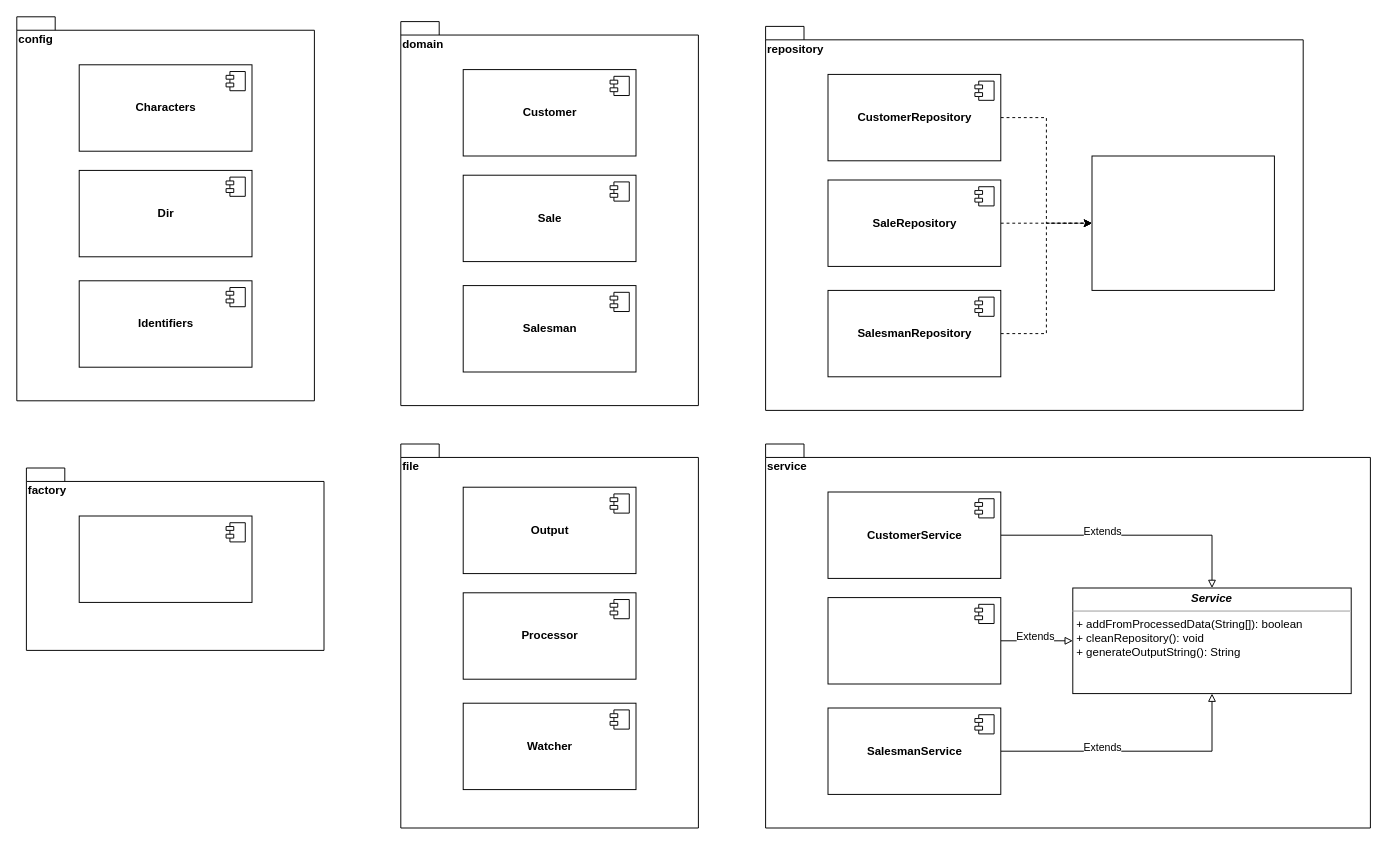
Image size: 1387x845. Some labels were removed from this diagram. The shapes that lost their labels are listed below. From the top down, each one's centre as x and y in pixels, then its label:
At point (1182, 222): "<<Interface>> Repository<T> + save(T): boolean + size(): int + getAll(): List<T>".
At point (165, 558): "ServiceFactory".
At point (914, 640): "SaleService".
